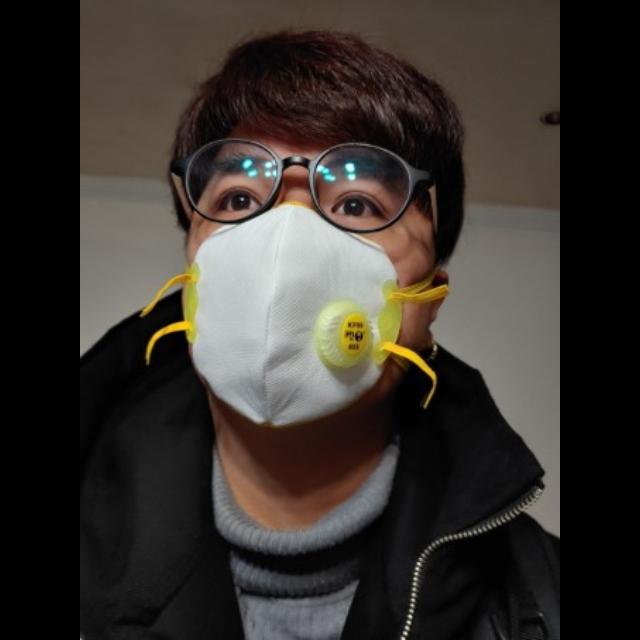masks: (161, 201, 447, 441)
